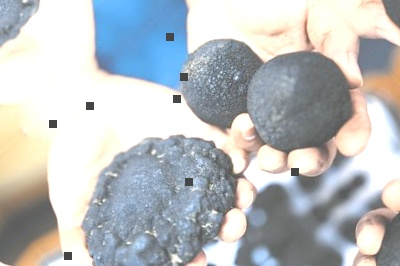halobolite: (41, 95, 270, 266), (247, 45, 355, 162), (167, 32, 261, 127)
